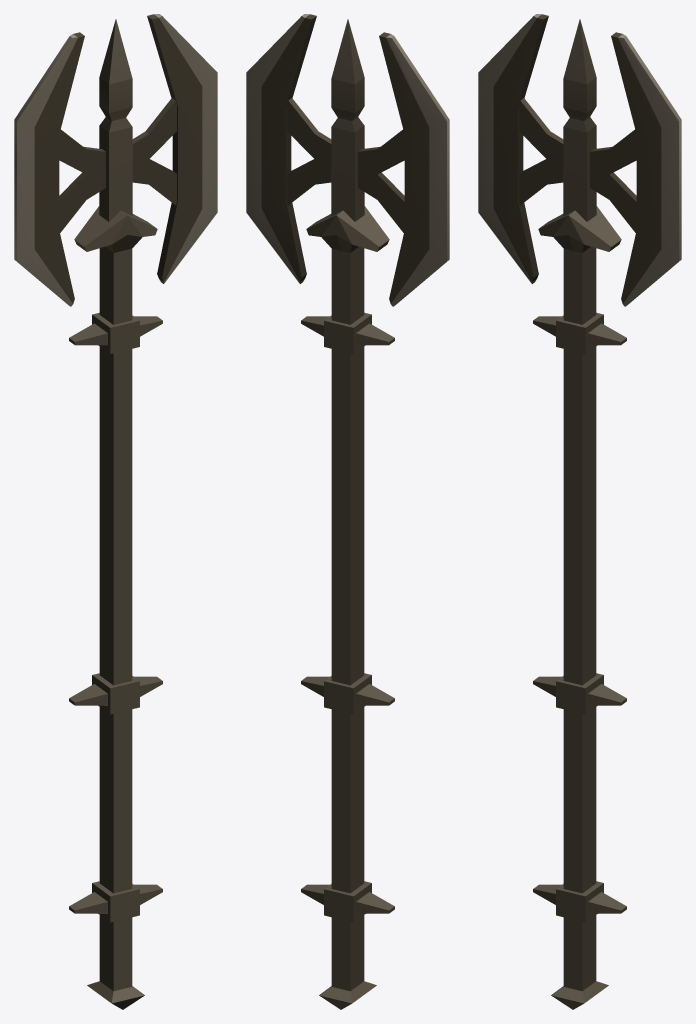
The model's file is SF_Wep_Undead_Halberd_01.fbx.
3 views of the same model, side by side, from view 1: azimuth 30°, elevation 25°; view 2: azimuth 150°, elevation 25°; view 3: azimuth 330°, elevation 25° (orthographic).
Visible parts, largest first — view 1: SF_Wep_Undead_Halberd_01; view 2: SF_Wep_Undead_Halberd_01; view 3: SF_Wep_Undead_Halberd_01.
Boxes of the visible parts, x1,y1,x2,y2 form: SF_Wep_Undead_Halberd_01: (14,14,217,1009); SF_Wep_Undead_Halberd_01: (246,14,449,1009); SF_Wep_Undead_Halberd_01: (478,14,681,1009).
Size of the model in its own units: 1.01 by 4.74 by 0.2166.
